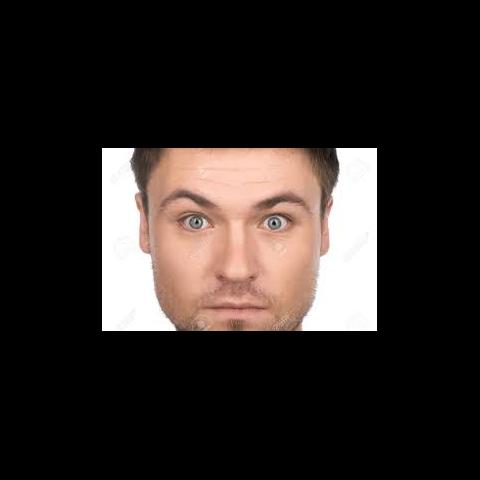opened: (165, 188, 308, 246)
